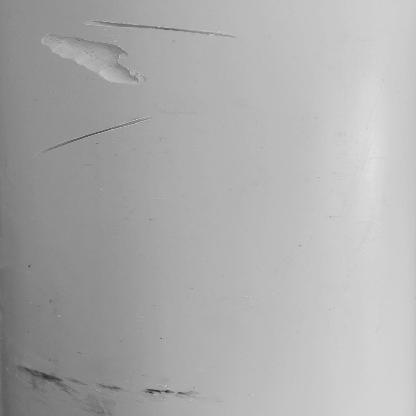sunshang: (42, 36, 142, 86), (39, 115, 150, 157), (84, 19, 239, 39)
